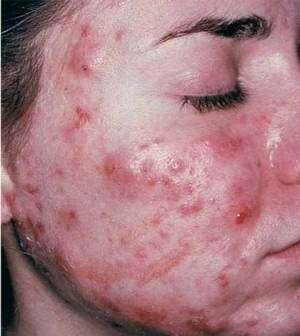Acne: (97, 147, 125, 194), (64, 53, 101, 85), (209, 265, 239, 299), (224, 199, 256, 230), (169, 155, 186, 178)
